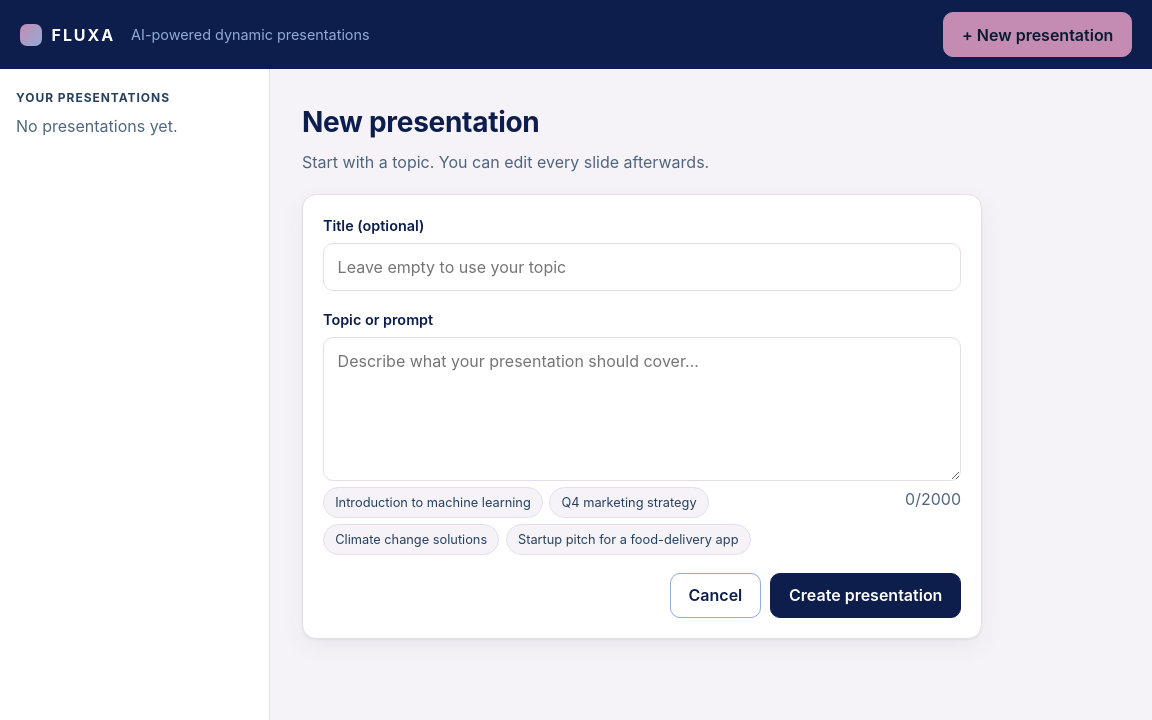
Test: creates the presentation, adds a title slide and opens the editor
Type "AI basics" into the text box labelled "Topic or prompt".
click(642, 409); type("AI basics")  # box [323,336,961,481]
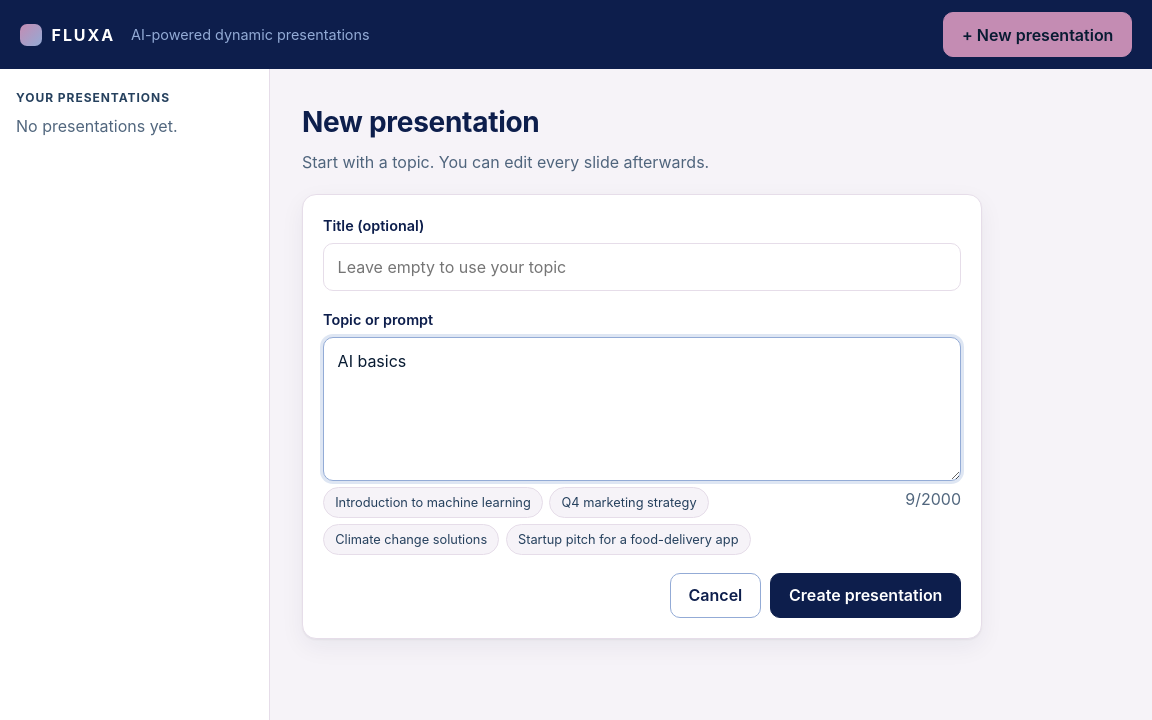
Click the button "Create presentation".
click(866, 596)  # box [770,573,961,618]
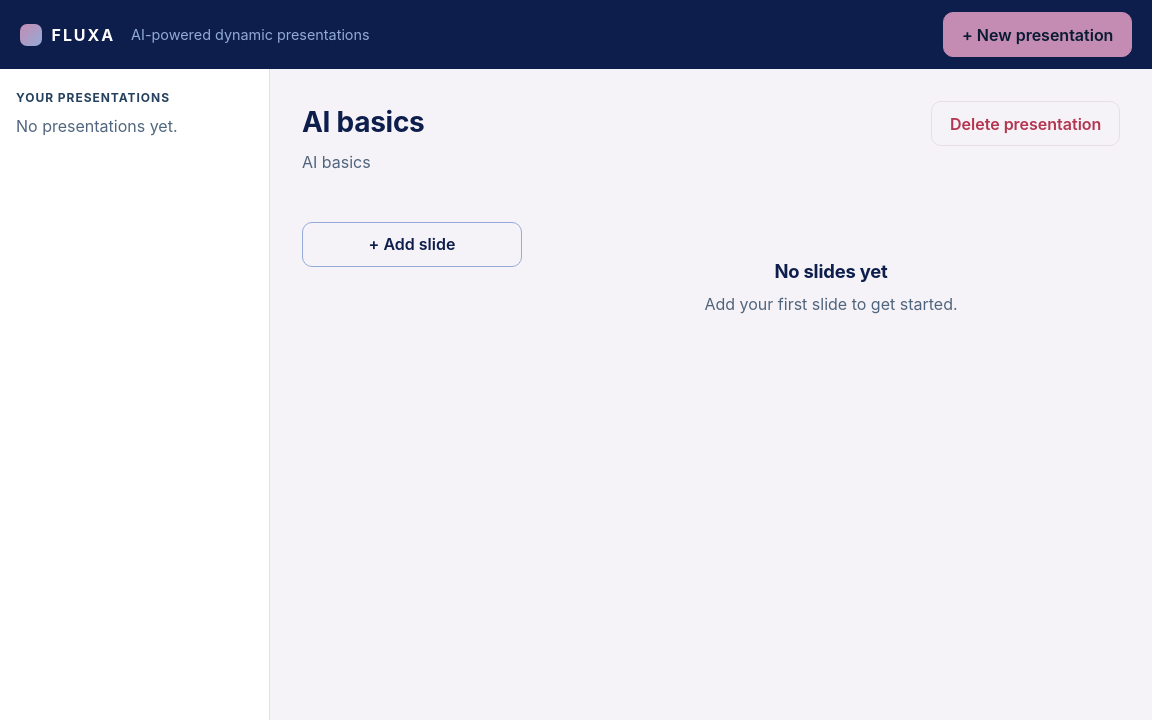
expect the heading "AI basics" is shown: met, box [302,101,424,143]
